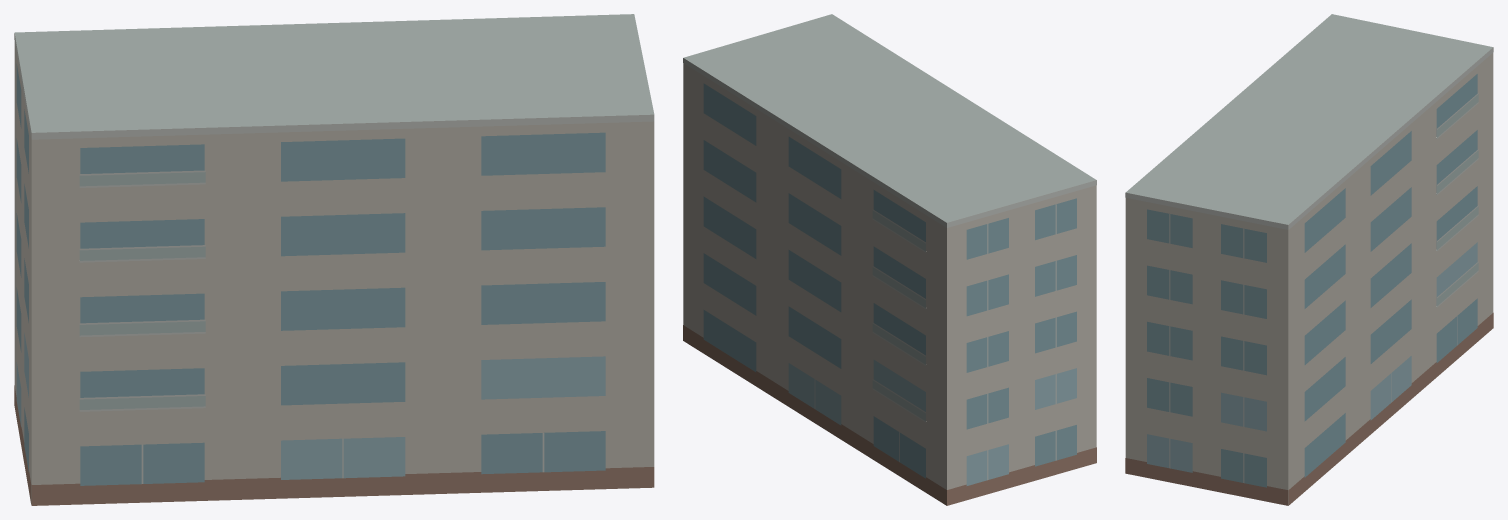
File: survey-upis-32891664.glb
3 views of the same model, side by side, from view 1: azimuth 30°, elevation 25°; view 2: azimuth 150°, elevation 25°; view 3: azimuth 270°, elevation 25° (orthographic). The views are drawn at different scales.
Visible parts, largest first — view 1: survey-upis-32891664.tmp; view 2: survey-upis-32891664.tmp; view 3: survey-upis-32891664.tmp.
Part boxes in pixels (x1,y1,x2,y2): survey-upis-32891664.tmp: (14, 14, 654, 505); survey-upis-32891664.tmp: (683, 14, 1096, 505); survey-upis-32891664.tmp: (1125, 14, 1493, 505).
Bounding box in the file's own units: 21.59 × 13.4 × 15.92.
